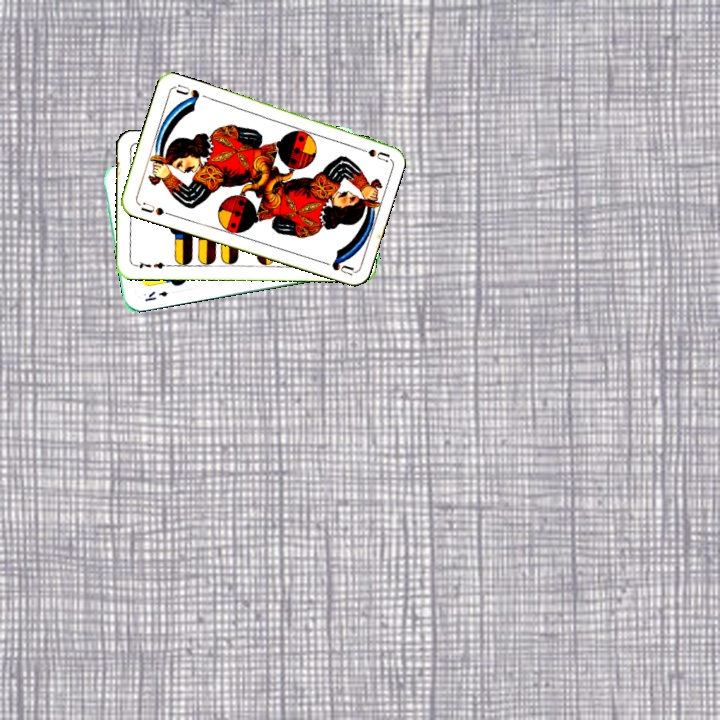E7: (131, 258, 171, 271)
EK: (141, 287, 170, 304)
SU: (351, 142, 391, 164), (134, 198, 174, 218)
